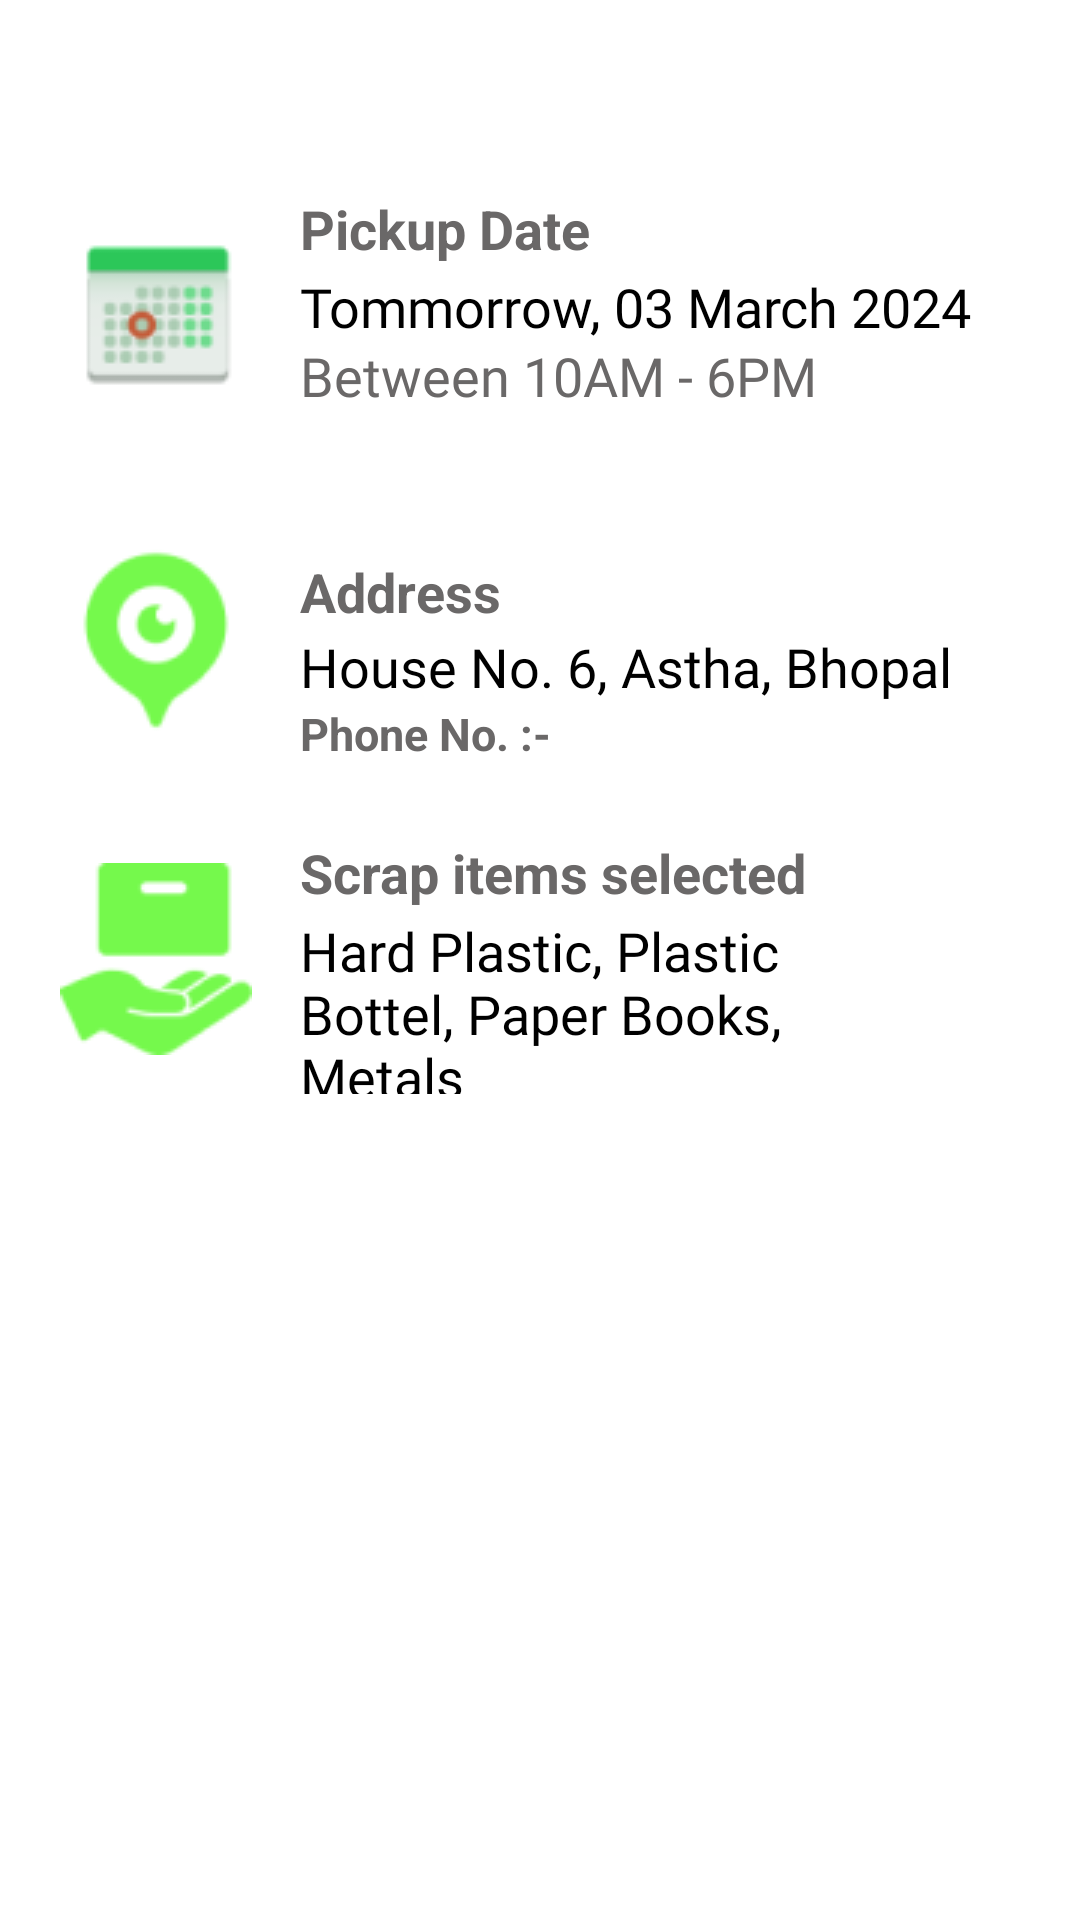

Icon click points for this 1080x1920 phone screenshot, format (x=x, y=y):
confirmed date: (x=158, y=314)
confirmed location: (x=156, y=640)
confirmed scrap items: (x=156, y=959)
